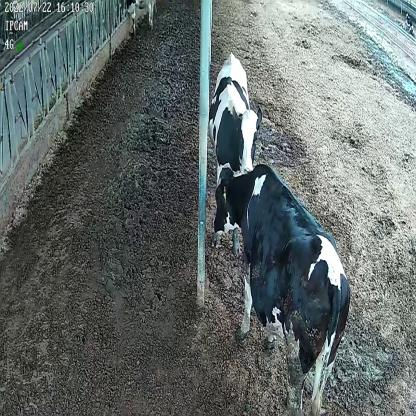cow: (210, 163, 351, 416), (206, 50, 265, 179)
